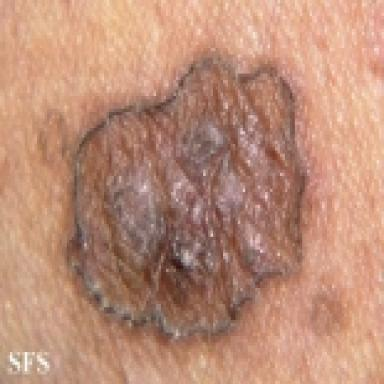Porokeratosis: (67, 54, 308, 344), (311, 294, 352, 335)
